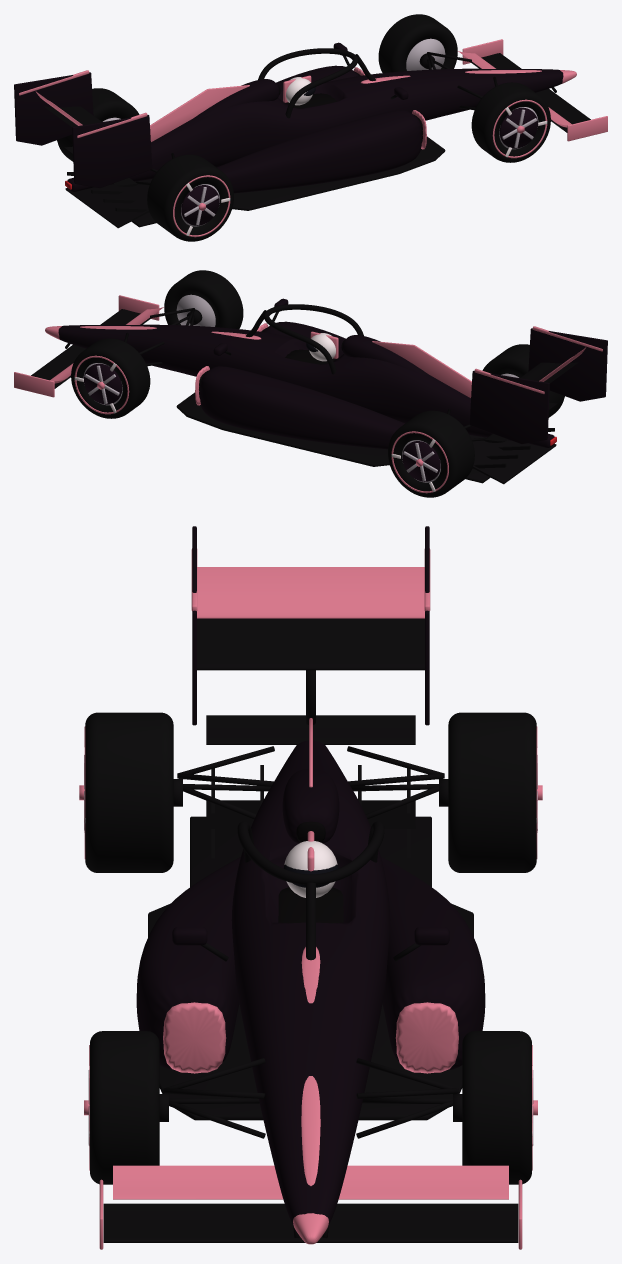
File: race-car.obj
3 renders of one model, top to bottom at view 1: azimuth 30°, elevation 25°; view 2: azimuth 150°, elevation 25°; view 3: azimuth 270°, elevation 25°, orthographic. The views are drawn at different scales.
Parts seen in each view (by area): view 1: BODY, SIDEPOD_R, REAR_ENDPLATE_R, WHEEL_RR_TYRE, REAR_ENDPLATE_L, WHEEL_FR_TYRE, FLOOR, WHEEL_FL_TYRE, DIFFUSER_ROOF, FIN, WHEEL_RL_TYRE, AIRBOX (+16 smaller); view 2: BODY, SIDEPOD_L, REAR_ENDPLATE_L, WHEEL_RL_TYRE, REAR_ENDPLATE_R, WHEEL_FL_TYRE, FLOOR, WHEEL_FR_TYRE, DIFFUSER_ROOF, FIN, WHEEL_RR_TYRE, AIRBOX (+16 smaller); view 3: BODY, FRONT_WING_MAIN, WHEEL_RL_TYRE, WHEEL_RR_TYRE, FLOOR, REAR_WING_MAIN, REAR_WING_FLAP_MESH, FRONT_WING_FLAP, SIDEPOD_L, SIDEPOD_R, WHEEL_FL_TYRE, WHEEL_FR_TYRE (+9 smaller).
Part boxes in pixels (<box>): BODY: <box>111,68,563,184</box>; SIDEPOD_R: <box>217,110,421,193</box>; REAR_ENDPLATE_R: <box>72,115,152,188</box>; WHEEL_RR_TYRE: <box>147,154,233,241</box>; REAR_ENDPLATE_L: <box>14,72,93,145</box>; WHEEL_FR_TYRE: <box>471,82,550,162</box>; FLOOR: <box>131,136,445,227</box>; WHEEL_FL_TYRE: <box>378,14,457,72</box>; DIFFUSER_ROOF: <box>65,179,152,228</box>; FIN: <box>150,85,249,141</box>; WHEEL_RL_TYRE: <box>57,88,139,161</box>; AIRBOX: <box>194,79,279,118</box>; BODY: <box>58,324,510,440</box>; SIDEPOD_L: <box>200,366,404,449</box>; REAR_ENDPLATE_L: <box>469,371,549,444</box>; WHEEL_RL_TYRE: <box>388,410,474,497</box>; REAR_ENDPLATE_R: <box>528,328,607,401</box>; WHEEL_FL_TYRE: <box>71,338,150,418</box>; FLOOR: <box>176,392,490,483</box>; WHEEL_FR_TYRE: <box>164,270,243,328</box>; DIFFUSER_ROOF: <box>469,435,556,484</box>; FIN: <box>372,341,471,397</box>; WHEEL_RR_TYRE: <box>482,344,564,417</box>; AIRBOX: <box>342,335,427,374</box>; BODY: <box>231,740,390,1225</box>; FRONT_WING_MAIN: <box>103,1203,518,1242</box>; WHEEL_RL_TYRE: <box>448,712,536,872</box>; WHEEL_RR_TYRE: <box>85,712,173,872</box>; FLOOR: <box>148,816,473,1120</box>; REAR_WING_MAIN: <box>197,618,424,670</box>; REAR_WING_FLAP_MESH: <box>197,567,424,618</box>; FRONT_WING_FLAP: <box>113,1165,508,1199</box>; SIDEPOD_L: <box>381,857,485,1070</box>; SIDEPOD_R: <box>136,857,240,1070</box>; WHEEL_FL_TYRE: <box>462,1031,531,1184</box>; WHEEL_FR_TYRE: <box>90,1031,159,1184</box>.
Bounding box in the file's own units: 5.29 × 1.14 × 1.99.
